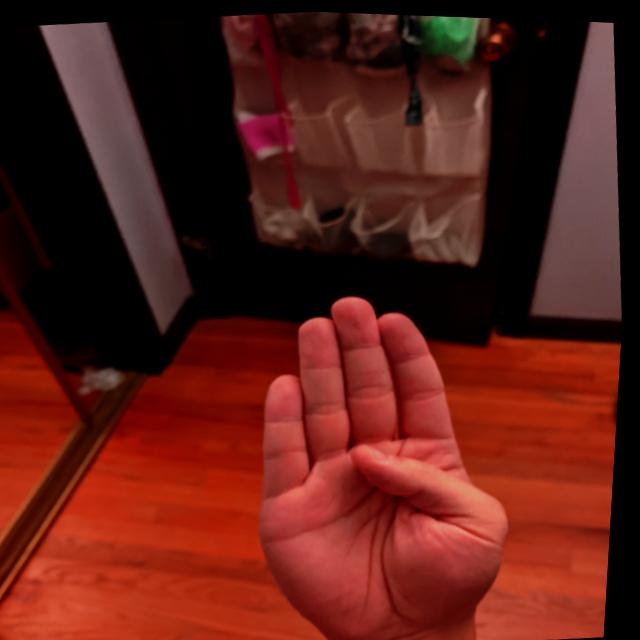B: (232, 269, 549, 639)
